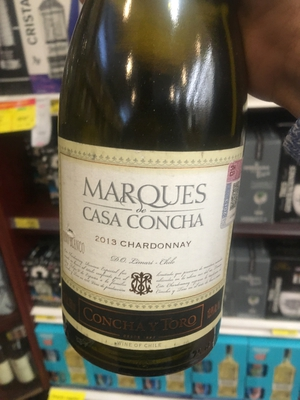marques de casa concha chardonnay: (53, 13, 253, 390)
